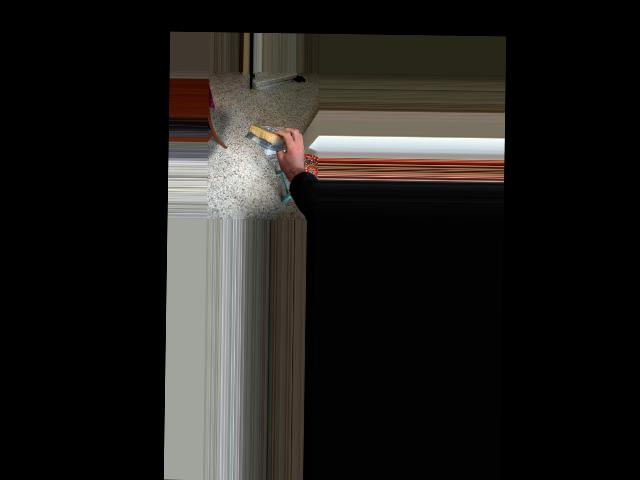cheese: (242, 124, 304, 153)
